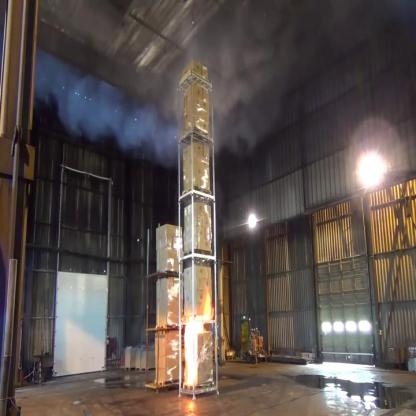fire: (183, 291, 212, 392)
